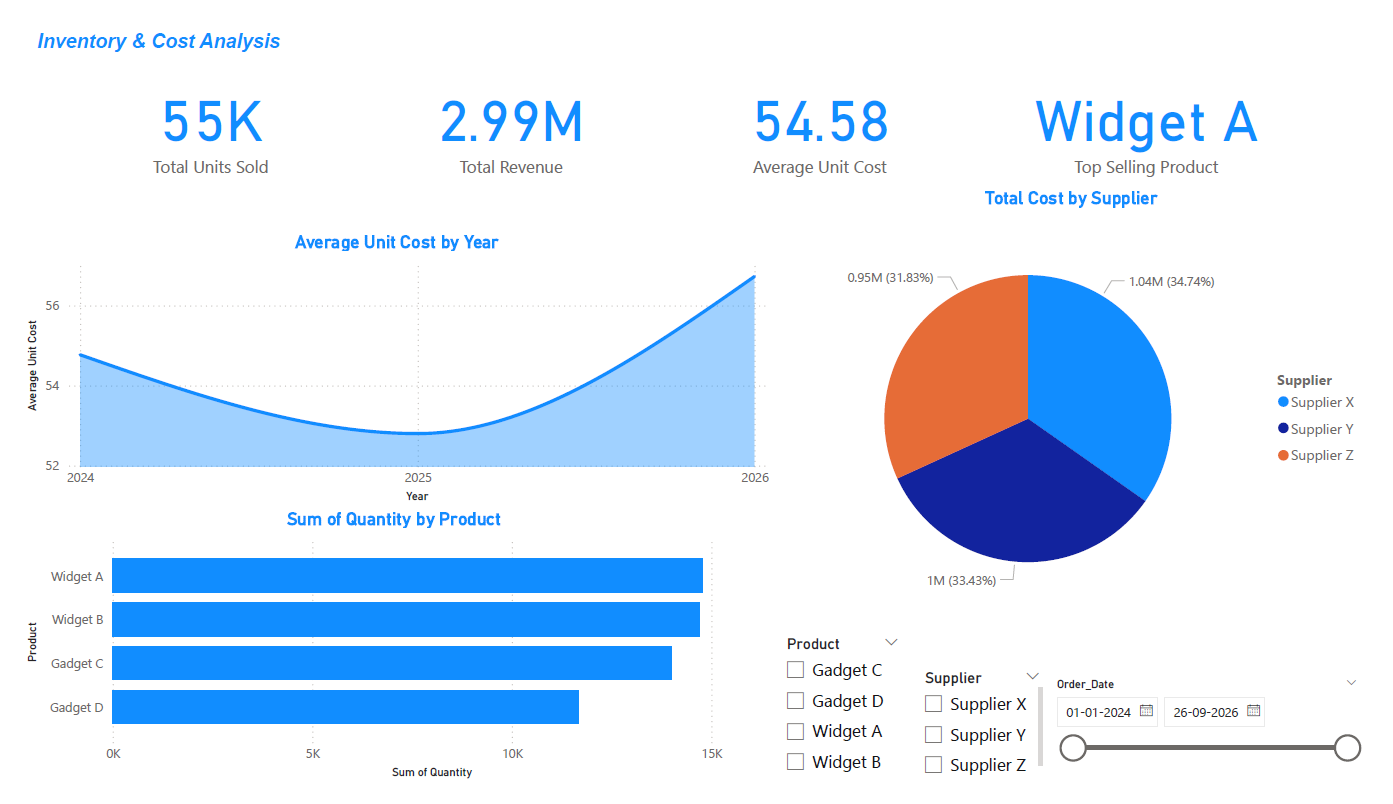

The page's visual inventory and layout, read from the dashboard file:
{"tool":"powerbi","page":{"name":"Page 2","canvas":[1280,720],"ordinal":1},"visuals":[{"type":"textbox","box":[10,0,242.5,36.2],"z":0},{"type":"card","fields":{"Values":["supply_chain_large_dataset.Total Unit"]},"box":[96.2,36.2,167.5,117.5],"z":1000},{"type":"card","fields":{"Values":["supply_chain_large_dataset.Total Revenue"]},"box":[381.2,36.2,167.5,117.5],"z":2000},{"type":"card","fields":{"Values":["supply_chain_large_dataset.Average Unit Cost"]},"box":[680,36.2,156.2,117.5],"z":3000},{"type":"card","fields":{"Values":["supply_chain_large_dataset.Top Selling Product"]},"box":[951.2,36.2,233.8,117.5],"z":4000},{"type":"barChart","fields":{"Category":["supply_chain_large_dataset.Product"],"Y":["Sum(supply_chain_large_dataset.Quantity)"]},"box":[0,457.5,707.5,262.5],"z":5000},{"type":"pieChart","fields":{"Category":["supply_chain_large_dataset.Supplier"],"Y":["supply_chain_large_dataset.Total Cost"]},"box":[713.8,153.8,566.2,420],"z":6000},{"type":"lineChart","fields":{"Category":["supply_chain_large_dataset.Order_Date.Variation.Date Hierarchy.Year","supply_chain_large_dataset.Order_Date.Variation.Date Hierarchy.Quarter","supply_chain_large_dataset.Order_Date.Variation.Date Hierarchy.Month","supply_chain_large_dataset.Order_Date.Variation.Date Hierarchy.Day"],"Y":["supply_chain_large_dataset.Average Unit Cost"]},"box":[0,195,713.8,262.5],"z":7000},{"type":"slicer","fields":{"Values":["supply_chain_large_dataset.Product"]},"box":[713.8,573.8,131.2,146.2],"z":8000},{"type":"slicer","fields":{"Values":["supply_chain_large_dataset.Supplier"]},"box":[845,606.2,133.8,113.8],"z":9000},{"type":"slicer","fields":{"Values":["supply_chain_large_dataset.Order_Date"]},"box":[970,613.8,310,106.2],"z":10000}]}

Visuals, with their boxes in screenshot pixels (x1, y1, x2, y2), scaled from the page's 1280x720 canvas onto the 1393x804 screenshot:
textbox: crop(11, 0, 275, 40)
card - supply_chain_large_dataset.Total Unit: crop(105, 40, 287, 172)
card - supply_chain_large_dataset.Total Revenue: crop(415, 40, 597, 172)
card - supply_chain_large_dataset.Average Unit Cost: crop(740, 40, 910, 172)
card - supply_chain_large_dataset.Top Selling Product: crop(1035, 40, 1290, 172)
barChart - supply_chain_large_dataset.Product x Sum(supply_chain_large_dataset.Quantity): crop(0, 511, 770, 803)
pieChart - supply_chain_large_dataset.Supplier x supply_chain_large_dataset.Total Cost: crop(777, 172, 1392, 641)
lineChart - supply_chain_large_dataset.Order_Date.Variation.Date Hierarchy.Year x supply_chain_large_dataset.Order_Date.Variation.Date Hierarchy.Quarter: crop(0, 218, 777, 511)
slicer - supply_chain_large_dataset.Product: crop(777, 641, 920, 803)
slicer - supply_chain_large_dataset.Supplier: crop(920, 677, 1065, 803)
slicer - supply_chain_large_dataset.Order_Date: crop(1056, 685, 1392, 803)
